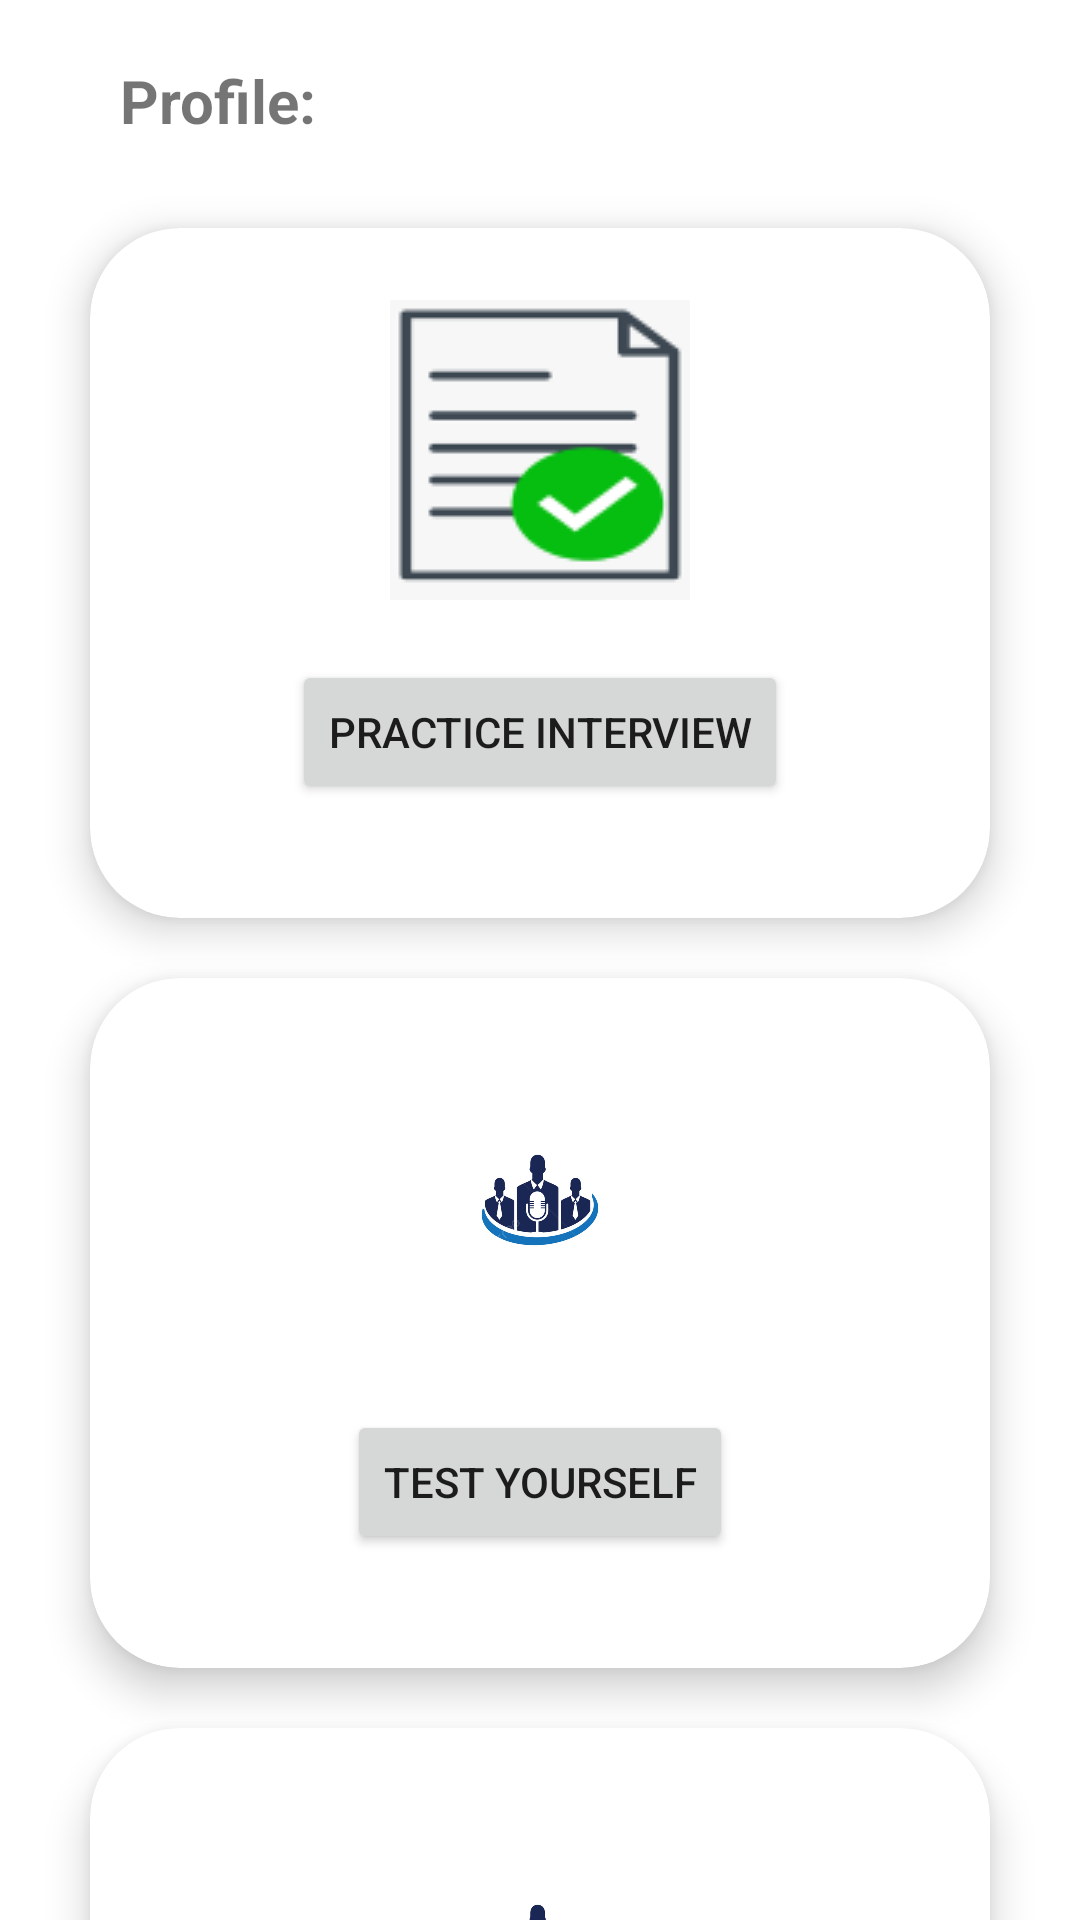

Where icons sit on this 1080w x 1920h app screen, as (x1, y1, x2, y2):
result: (398, 308, 682, 581)
